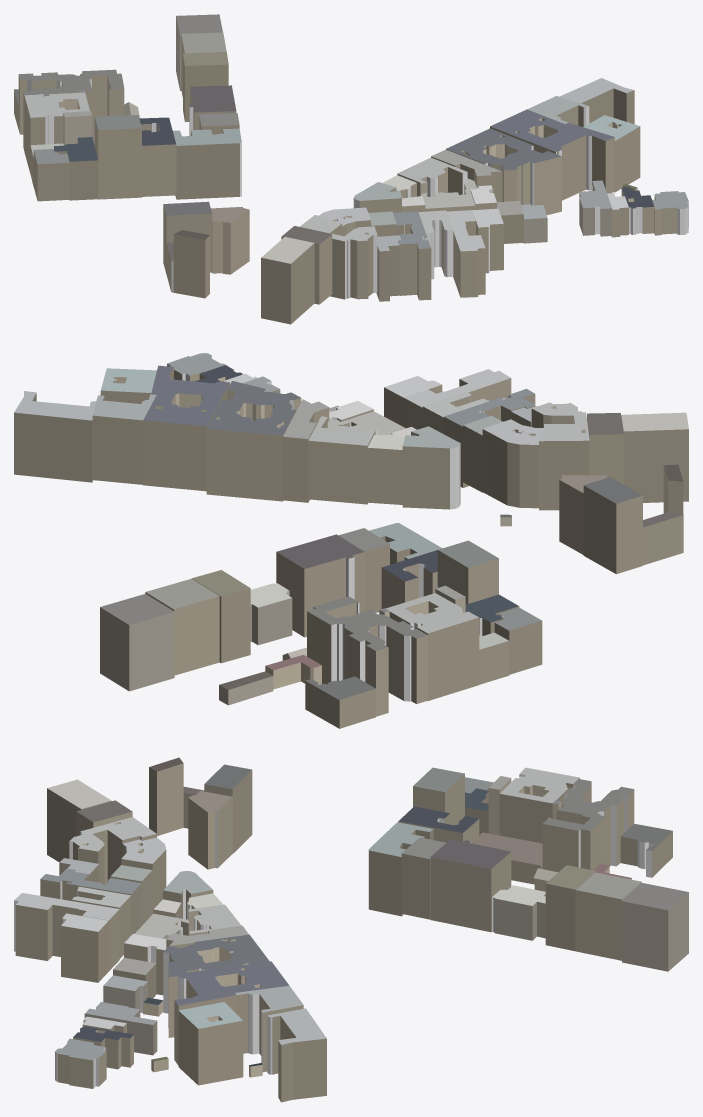
3 renders of one model, top to bottom at view 1: azimuth 30°, elevation 25°; view 2: azimuth 150°, elevation 25°; view 3: azimuth 270°, elevation 25°, orthographic. The views are drawn at different scales.
Visible parts, largest first — view 1: tuile; view 2: tuile; view 3: tuile.
Part boxes in pixels (box(x1,y1,x2,y2)): tuile: box(14, 14, 688, 324); tuile: box(14, 353, 688, 728); tuile: box(14, 757, 688, 1102).
Bounding box in the file's own units: 273 × 40.7 × 280.
